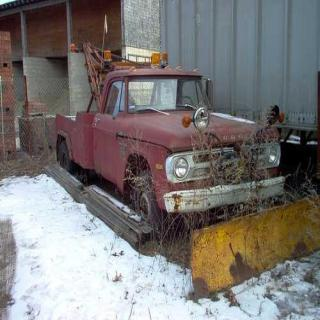Towing_truck: (51, 47, 287, 240)
